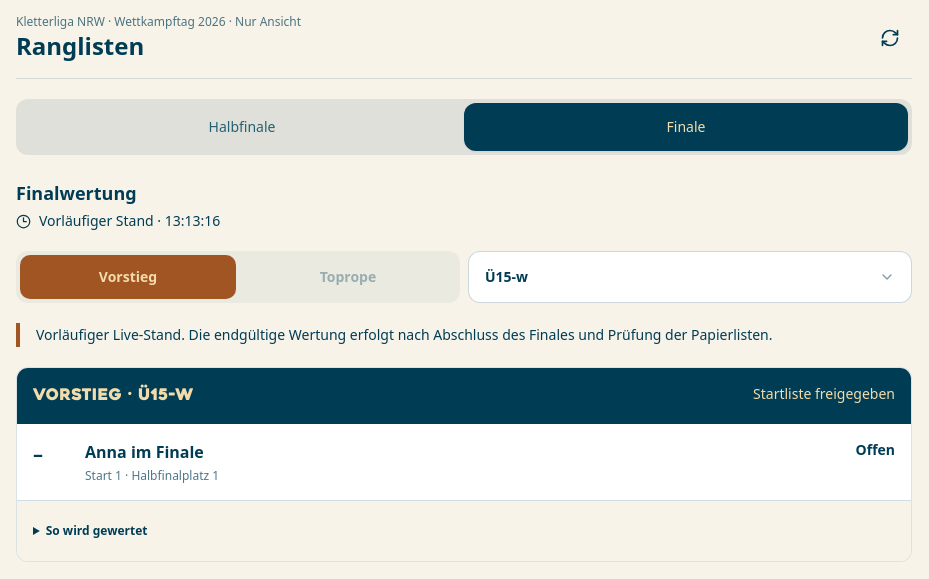
moderator participant ranking view › offers both phases without losing semifinal data when finals are published
expect the text "Anna im Finale" is shown: met, box x1=85 y1=441 x2=204 y2=463
Step 1. Press the mouse on the tab "Halbfinale" → x=242, y=127, box x1=20 y1=103 x2=464 y2=151
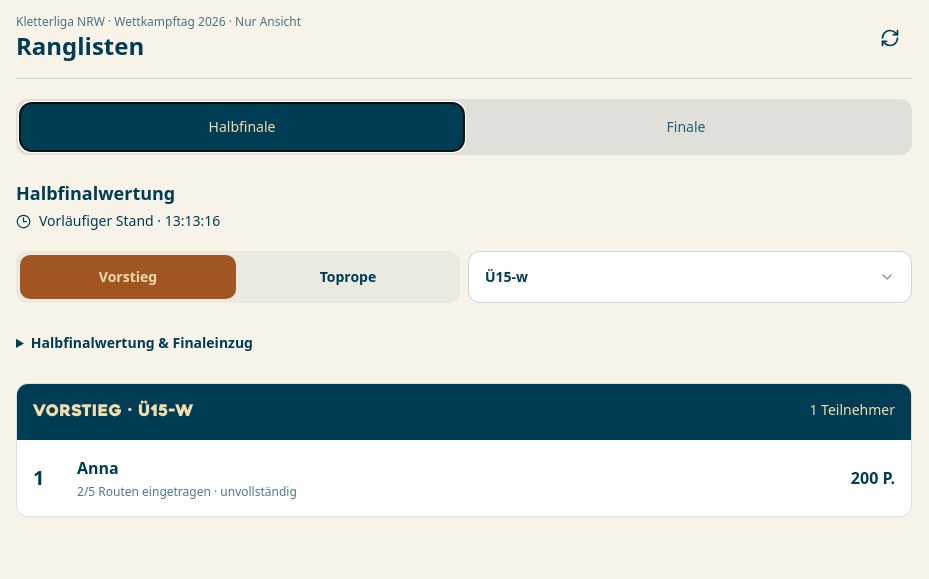
expect the text "Anna" is shown: met, box x1=77 y1=457 x2=119 y2=479
Step 2. Press the mouse on the tab "Finale" → x=686, y=127, box x1=464 y1=103 x2=908 y2=151
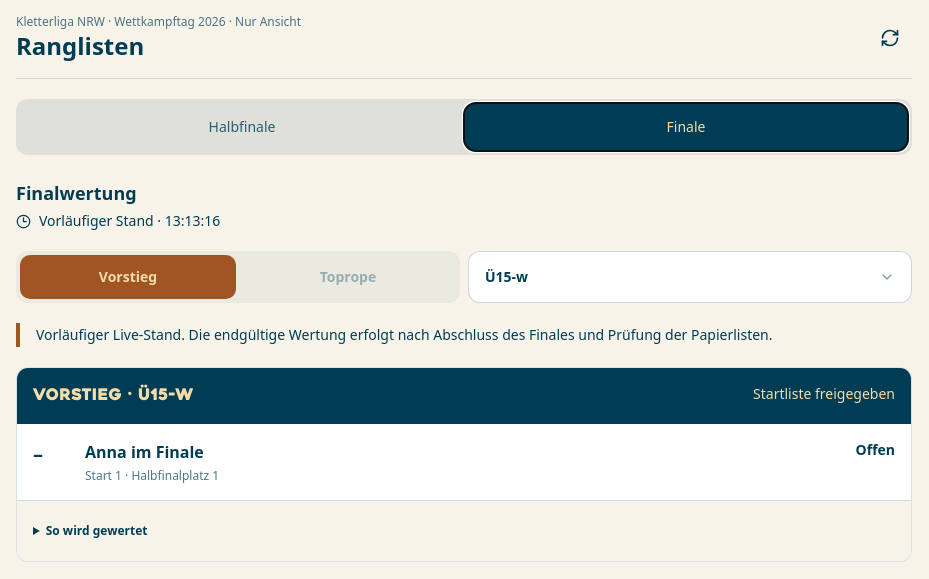
expect the text "Anna im Finale" is shown: met, box x1=85 y1=441 x2=204 y2=463
